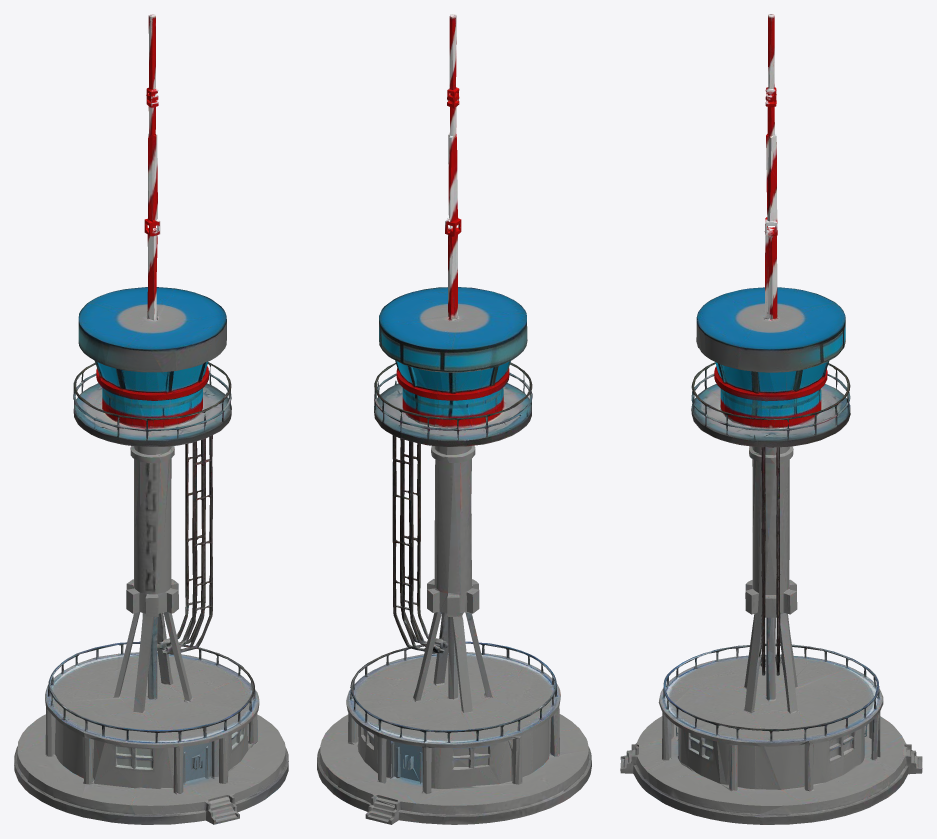
Rendered from lm_tvtower.glb.
3 views of the same model, side by side, from view 1: azimuth 30°, elevation 25°; view 2: azimuth 150°, elevation 25°; view 3: azimuth 270°, elevation 25° (orthographic).
Visible parts, largest first — view 1: output_unwrapped; view 2: output_unwrapped; view 3: output_unwrapped.
Boxes of the visible parts, <box> form: output_unwrapped: <box>14,14,288,824</box>; output_unwrapped: <box>317,14,591,824</box>; output_unwrapped: <box>620,14,922,824</box>.
Bounding box in the file's own units: 0.6281 × 1.9 × 0.6909.
Materials: 1 (1 with a texture image).
